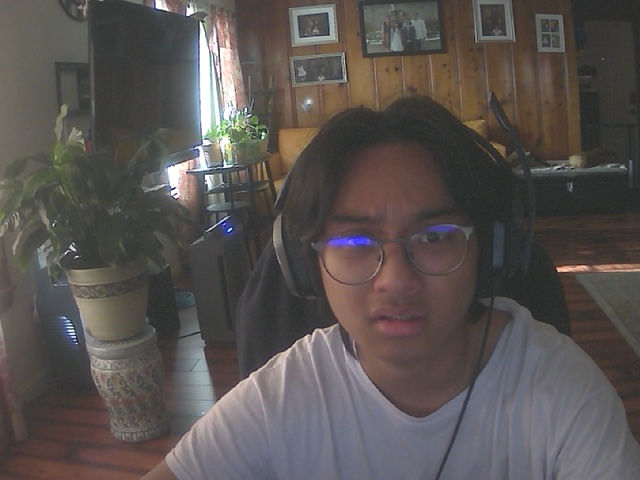fear: (317, 140, 488, 359)
